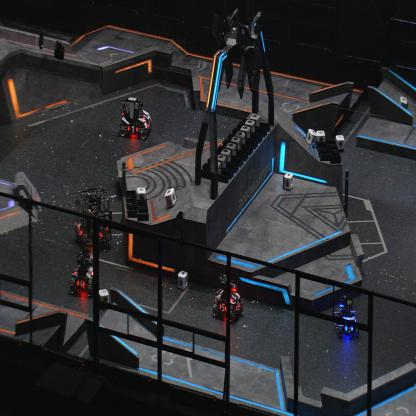car: (73, 185, 114, 250), (212, 272, 245, 323), (69, 246, 98, 298), (120, 97, 152, 139), (332, 294, 359, 338)
